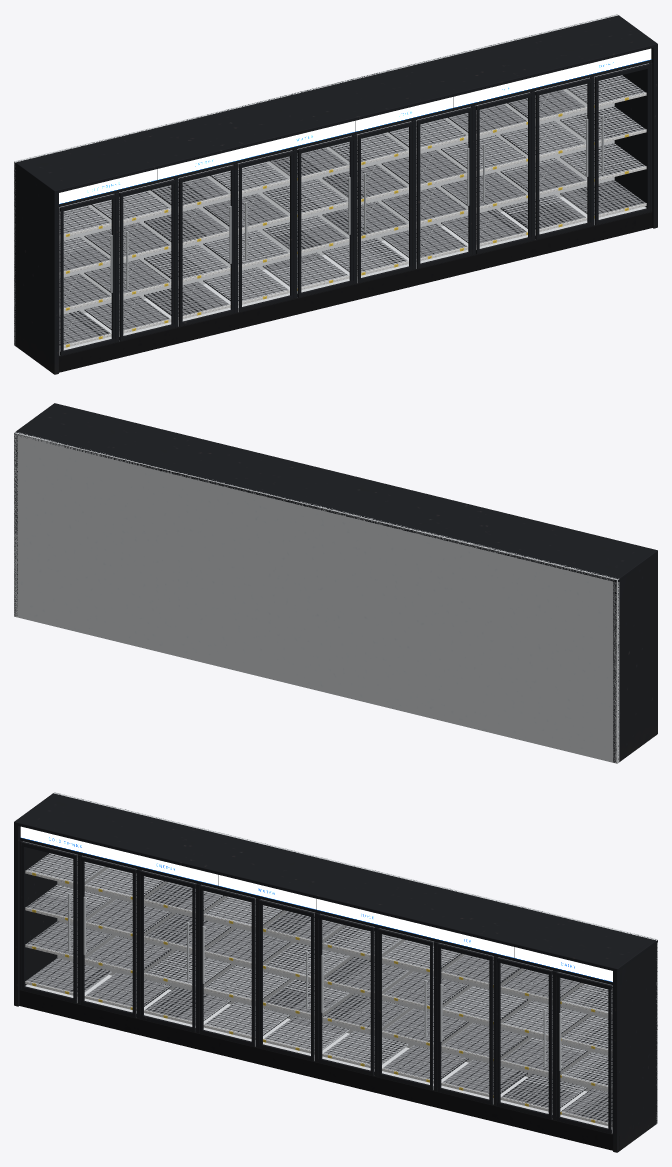
Rendered from SM_Cooler.glb.
The picture shows the model from 3 angles, top to bottom: view 1: azimuth 30°, elevation 25°; view 2: azimuth 150°, elevation 25°; view 3: azimuth 330°, elevation 25°; orthographic projection.
Visible parts, largest first — view 1: SM_Cooler; view 2: SM_Cooler; view 3: SM_Cooler.
Boxes of the visible parts, left/top/right/bottom form: SM_Cooler: left=14, top=14, right=657, bottom=374; SM_Cooler: left=14, top=403, right=657, bottom=763; SM_Cooler: left=14, top=792, right=657, bottom=1152.
Size of the model in its own units: 7.72 by 2.25 by 0.932.
Materials: 8 (8 with a texture image).
